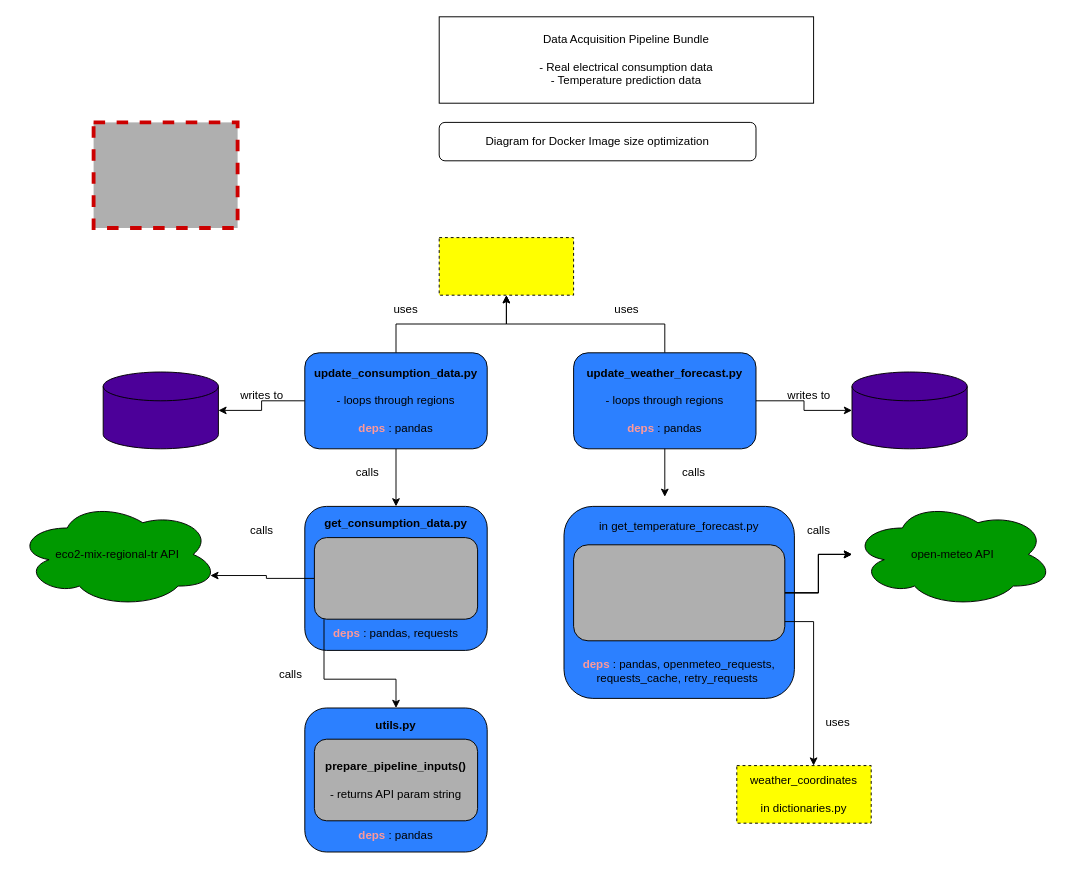
The diagram is 1070 pixels wide and 869 high, and some of its shapes have lost their labels. Here are the shapes that lost their labels. From the top down, the centre of each, then its label:
(165,174): Deps : pandas, requests, openmeteo_requests, requests_cache, retry_requests
(506,266): region_abbr_dict in dictionaries.py
(160,410): all_cons_data.csv
(909,410): all_temp_data.csv
(395,578): get_regional_consumption() - processes API data - returns dataframe
(679,592): regional_temperature_prediction() - processes API data - returns dataframe
